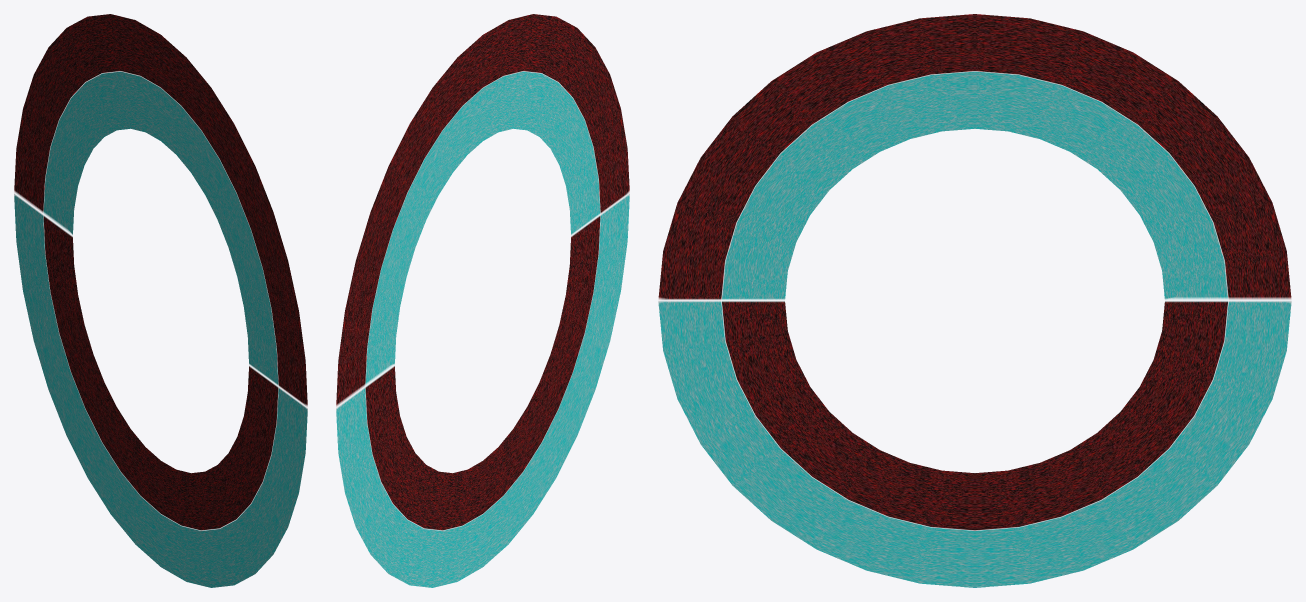
3 renders of one model, left to right at view 1: azimuth 30°, elevation 25°; view 2: azimuth 150°, elevation 25°; view 3: azimuth 270°, elevation 25°, orthographic. The views are drawn at different scales.
Parts seen in each view (by area): view 1: SM_VFX_Disc01_LOD0; view 2: SM_VFX_Disc01_LOD0; view 3: SM_VFX_Disc01_LOD0.
Boxes of the visible parts, box(x1,y1,x2,y2) form: SM_VFX_Disc01_LOD0: box(14, 14, 307, 587); SM_VFX_Disc01_LOD0: box(336, 14, 629, 587); SM_VFX_Disc01_LOD0: box(658, 14, 1291, 587).
Size of the model in its own units: 0 by 0.4874 by 0.4874.
Materials: 1 (1 with a texture image).
